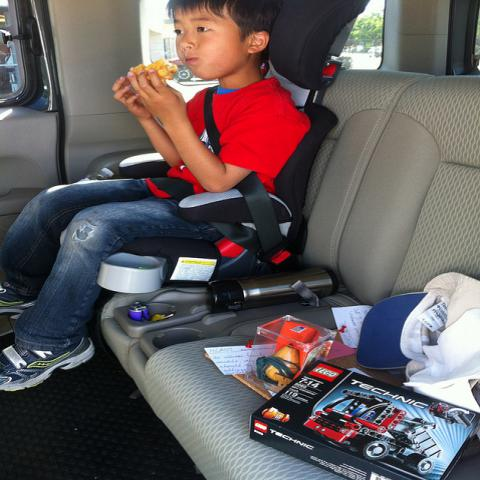car: (166, 59, 268, 82)
